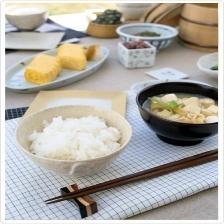rice: (23, 107, 125, 162)
